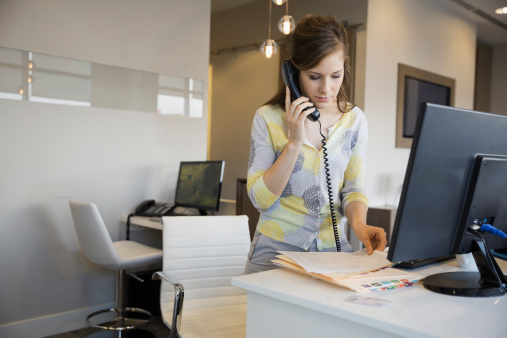em pe: (246, 25, 374, 279)
